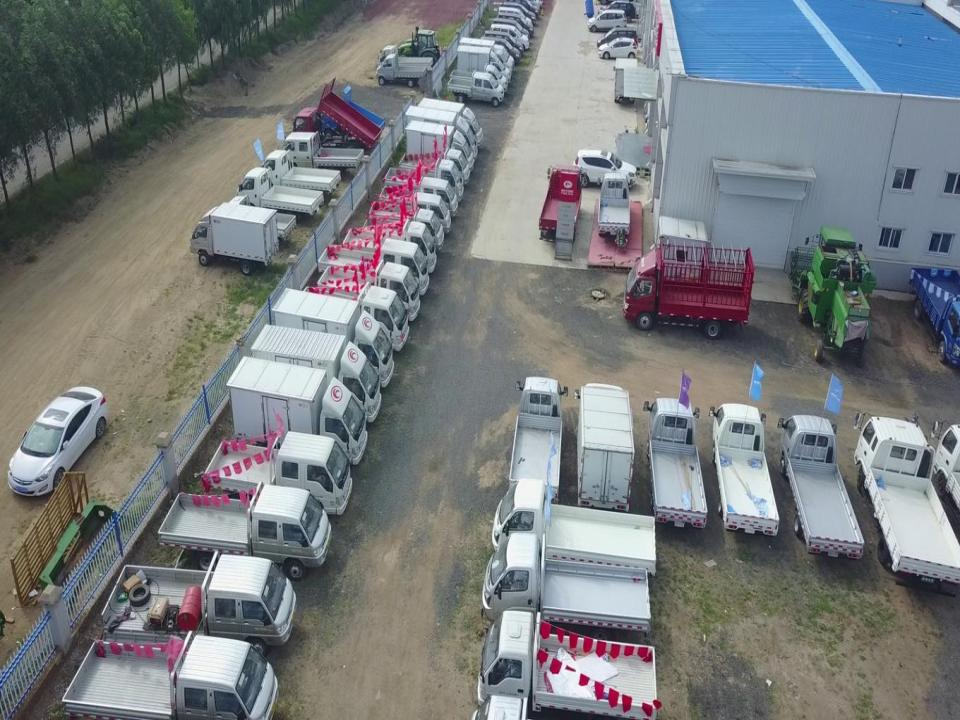car: (6, 386, 106, 494), (572, 149, 639, 191), (599, 37, 638, 61), (596, 0, 635, 24), (586, 10, 625, 31), (502, 0, 539, 18)
truck: (102, 550, 297, 656), (476, 609, 660, 720), (854, 412, 959, 600), (60, 630, 280, 719), (483, 532, 653, 642), (156, 481, 331, 580), (492, 477, 656, 577), (227, 356, 368, 468), (203, 430, 355, 520), (249, 323, 382, 425), (779, 412, 864, 565), (622, 241, 755, 338), (270, 287, 394, 389), (709, 401, 780, 536), (642, 396, 708, 528), (505, 376, 569, 508), (299, 280, 410, 355), (575, 382, 635, 517), (293, 78, 382, 162), (316, 236, 429, 300), (317, 259, 422, 325), (188, 201, 280, 275), (342, 216, 438, 276), (907, 266, 959, 364), (234, 168, 324, 223), (256, 148, 341, 200), (309, 83, 385, 141), (214, 194, 297, 245), (404, 104, 479, 160), (403, 119, 475, 176), (278, 131, 364, 178), (383, 154, 466, 202), (360, 208, 446, 252), (369, 191, 453, 233), (378, 176, 460, 219), (418, 97, 483, 151), (540, 162, 582, 245), (394, 146, 472, 184), (457, 35, 515, 78), (598, 172, 634, 240), (455, 45, 512, 85), (378, 43, 434, 82), (447, 70, 505, 106), (375, 53, 427, 89), (450, 64, 510, 94), (612, 55, 637, 106)
van: (480, 34, 522, 65), (486, 28, 524, 60), (489, 22, 530, 50), (493, 12, 534, 40), (490, 16, 530, 43), (598, 27, 639, 48), (497, 2, 537, 23), (498, 7, 533, 30)
